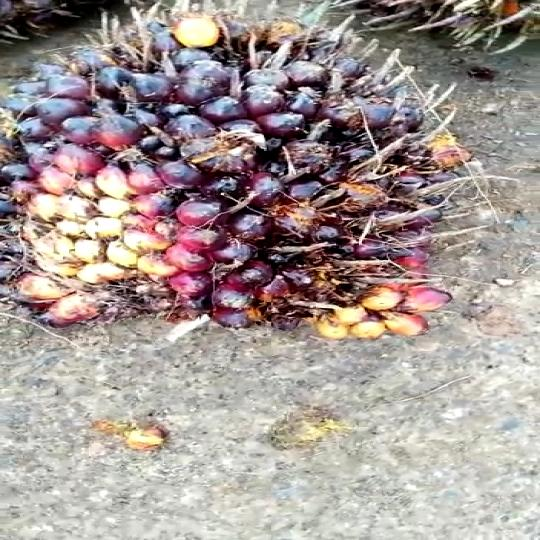masak: (0, 12, 496, 362)
